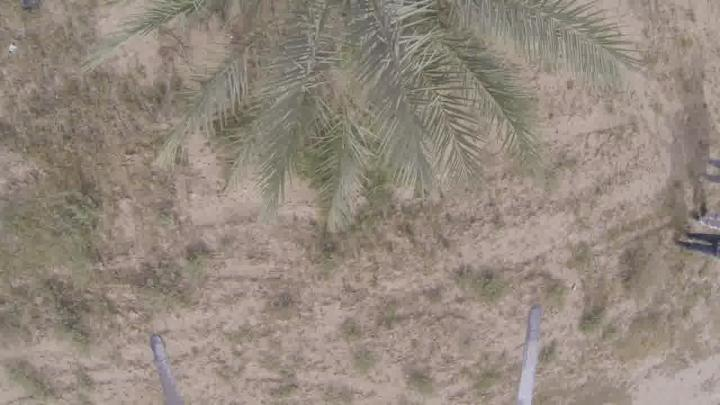Date-Palm-Crown: (219, 0, 535, 110)
